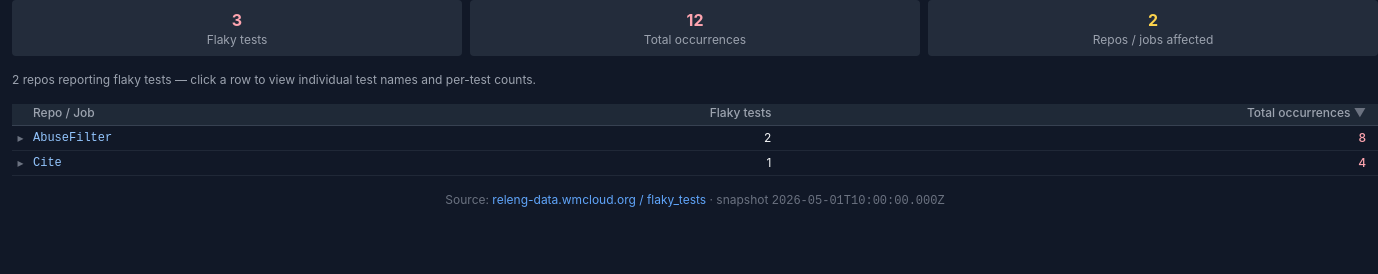
Scenario: FlakyTestsPanel › populated › expands a repo row to reveal individual test names on click
The width and height of the screenshot is (1378, 274).
Click the text "AbuseFilter": click(73, 138) top-left (32, 126), bottom-right (447, 150)
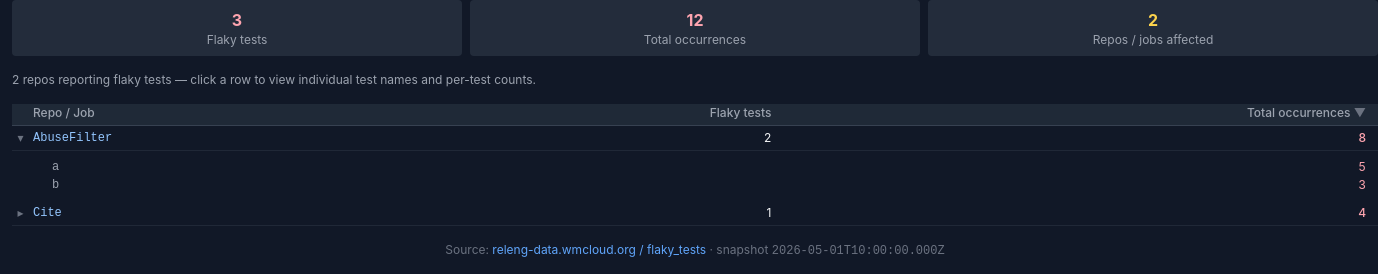
expect the text "a" is shown: met, box top-left (52, 159), bottom-right (59, 175)
expect the text "b" is shown: met, box top-left (52, 177), bottom-right (59, 193)
